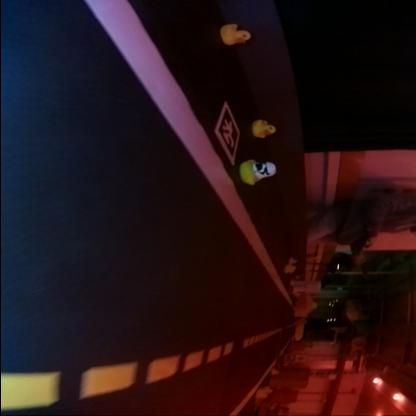Duckie: (240, 160, 276, 184), (222, 22, 250, 44), (253, 121, 275, 136)
QR code: (214, 101, 240, 164)
